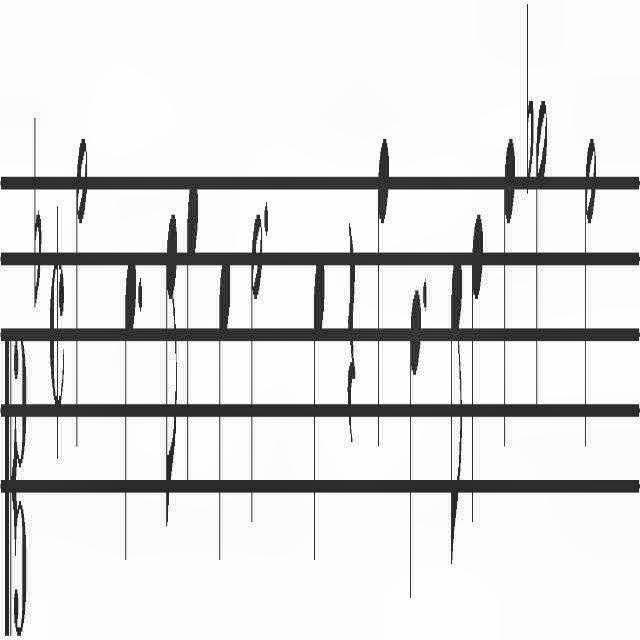Bemol: (525, 0, 535, 194), (34, 107, 42, 321)
Eighth-note: (449, 242, 463, 578), (165, 208, 179, 540)
Half-note: (249, 200, 263, 530), (75, 126, 88, 458), (536, 85, 548, 428), (584, 128, 596, 460)
Quarter-note: (408, 281, 422, 615), (312, 246, 326, 570), (185, 171, 199, 494), (471, 208, 484, 540), (376, 134, 389, 454), (124, 242, 136, 570), (504, 128, 516, 452), (218, 247, 230, 567)
Quarter-rest: (347, 222, 358, 452)
